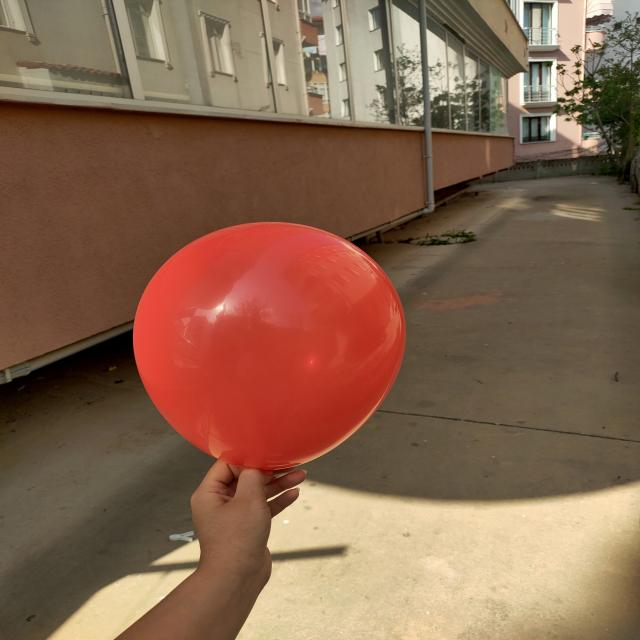red: (133, 221, 404, 471)
